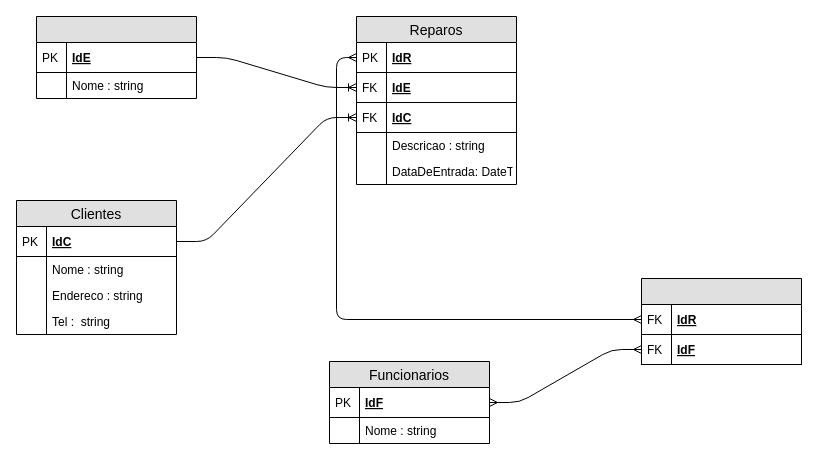
Some shapes in this 818 by 460 pixel diagram are drawn without their labels. The shapes that lost their labels are listed below. From the top down, each one's box as (x1, y1, x2, y2) in pixels, then its label:
(36, 16, 196, 98): Equipamentos
(640, 278, 802, 364): Reparo/Funcioarios
